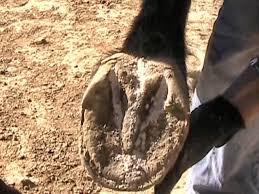horsesole: (79, 66, 190, 191)
